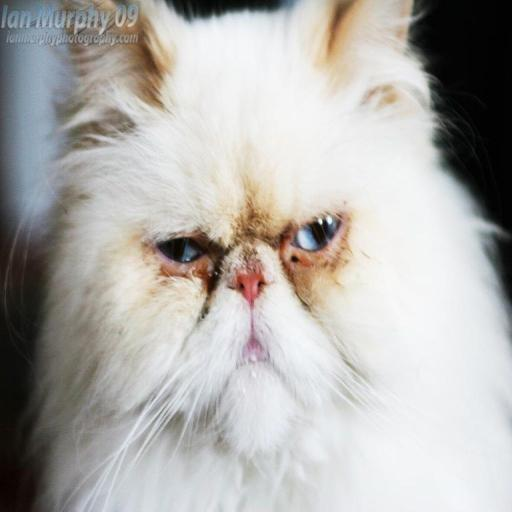cat: (21, 0, 512, 512)
